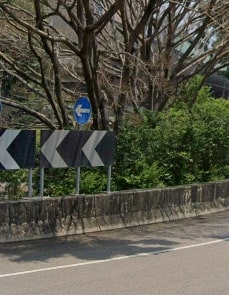Turn Left: (73, 97, 92, 127)
Turn Left(quick): (40, 131, 118, 173)
